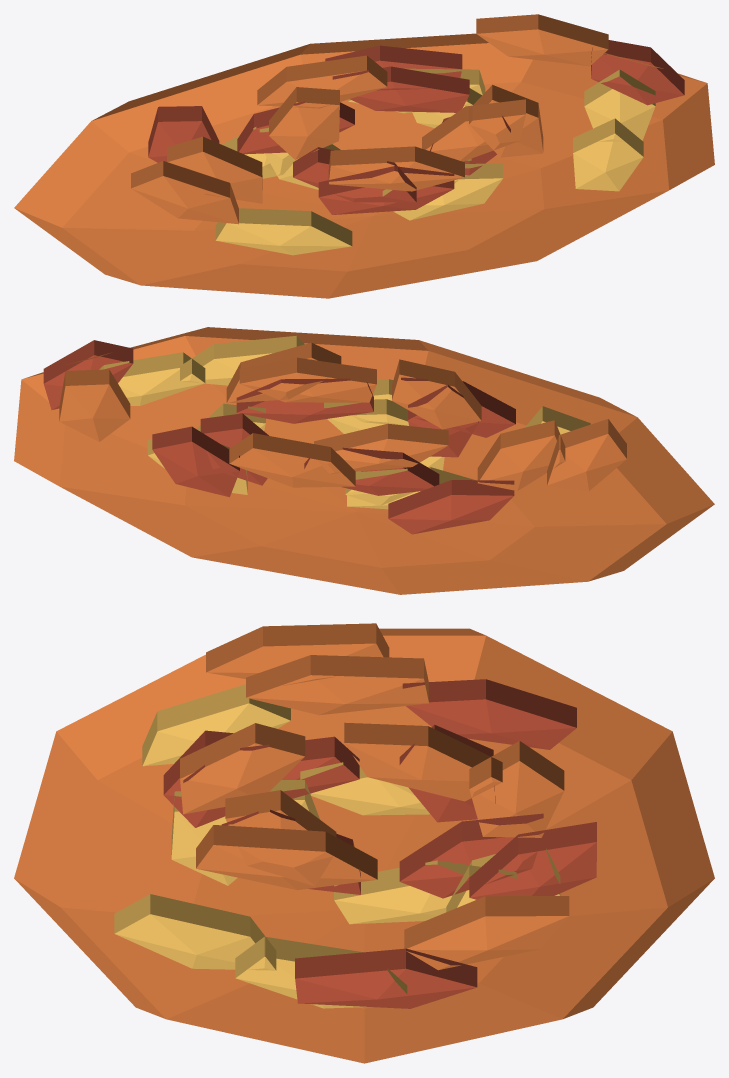
The model's file is turning-seasons-leaf-pile-32cafdca__2139.glb.
3 views of the same model, one above another, from view 1: azimuth 30°, elevation 25°; view 2: azimuth 150°, elevation 25°; view 3: azimuth 270°, elevation 25° (orthographic). The views are drawn at different scales.
Visible parts, largest first — view 1: leaf-pile; view 2: leaf-pile; view 3: leaf-pile.
Boxes of the visible parts, bbox=[...] form: leaf-pile: bbox=[14, 14, 714, 298]; leaf-pile: bbox=[14, 327, 714, 594]; leaf-pile: bbox=[14, 623, 714, 1063].
Bounding box in the file's own units: 1.13 × 0.174 × 0.7878.
